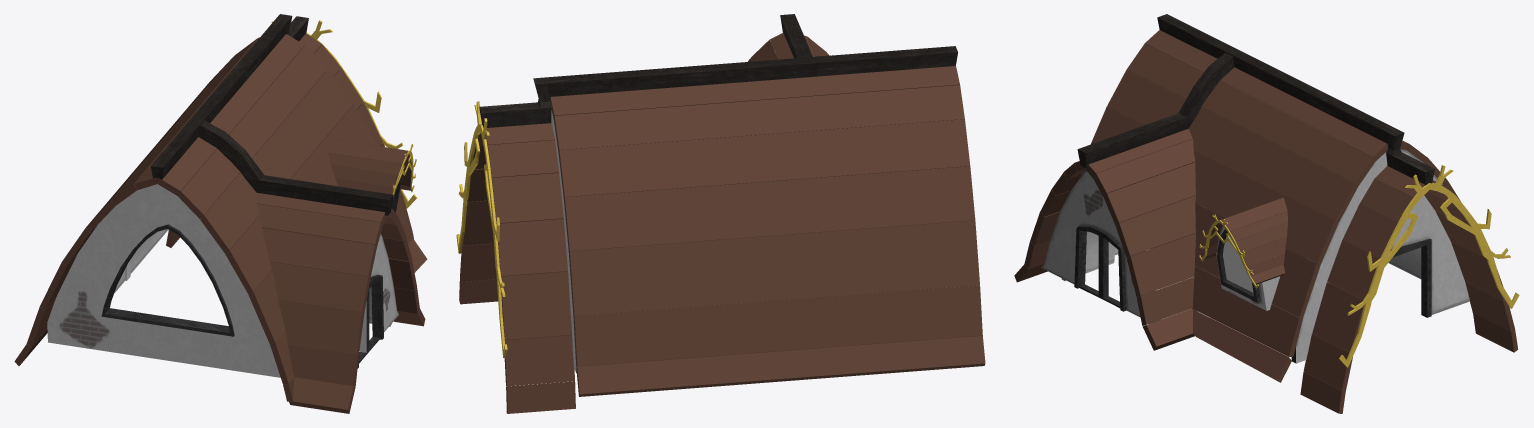
The model's file is primera_planta.fbx.
3 renders of one model, left to right at view 1: azimuth 30°, elevation 25°; view 2: azimuth 150°, elevation 25°; view 3: azimuth 270°, elevation 25°, orthographic. The views are drawn at different scales.
Visible parts, largest first — view 1: Cube.014, Plane.017, tablon.008, Plane.059, Plane.041, Cube.109, Cube.108, base; view 2: Plane.041, Cube.014, Cube.108, Cube.109, tablon.008; view 3: Cube.014, Plane.059, Cube.108, tablon.008, Cube.109, base.
Boxes of the visible parts, x1,y1,x2,y2 form: Cube.014: [166, 20, 427, 368]; Plane.017: [47, 184, 280, 377]; tablon.008: [256, 193, 392, 413]; Plane.059: [157, 137, 294, 401]; Plane.041: [14, 37, 259, 365]; Cube.109: [198, 120, 393, 215]; Cube.108: [150, 14, 308, 181]; base: [114, 229, 168, 293]; Plane.041: [550, 66, 985, 396]; Cube.014: [456, 40, 778, 413]; Cube.108: [479, 46, 957, 127]; Cube.109: [780, 14, 830, 58]; tablon.008: [770, 33, 829, 59]; Cube.014: [1041, 67, 1519, 413]; Plane.059: [1090, 30, 1217, 144]; Cube.108: [1157, 14, 1434, 185]; tablon.008: [1014, 129, 1192, 282]; Cube.109: [1077, 52, 1234, 168]; base: [1061, 231, 1421, 281].
Bounding box in the file's own units: 3301 × 1760 × 3435.
